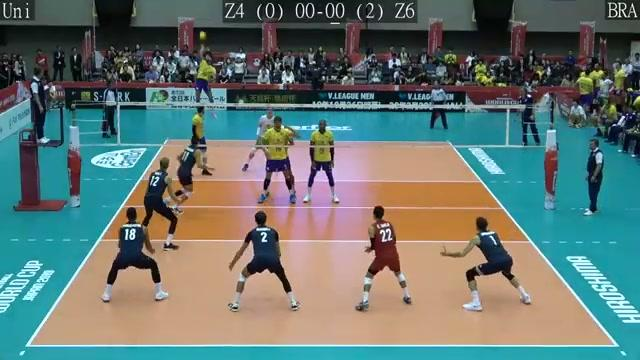ball: (197, 29, 207, 39)
